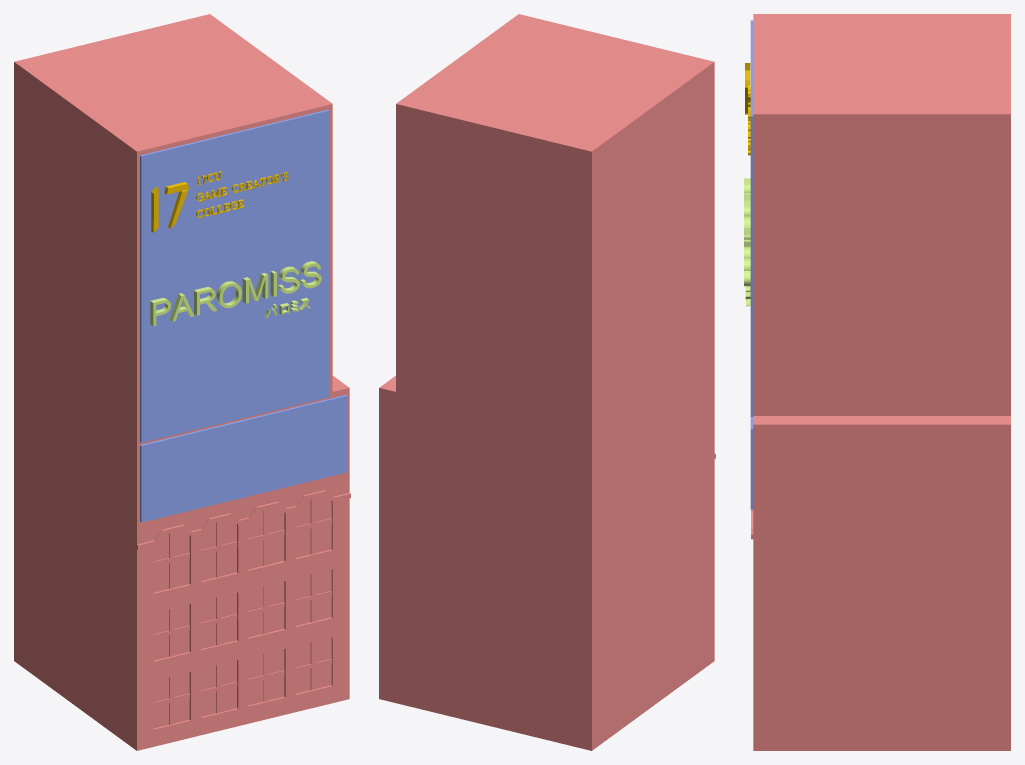
The model's file is PAROMISS.FBX.
3 views of the same model, side by side, from view 1: azimuth 30°, elevation 25°; view 2: azimuth 150°, elevation 25°; view 3: azimuth 270°, elevation 25° (orthographic). The views are drawn at different scales.
Parts seen in each view (by area): view 1: PuromisuBuilding, SignBoard, PAROMISS, 17_Text, 17_Logo; view 2: PuromisuBuilding; view 3: PuromisuBuilding, SignBoard, PAROMISS.
Boxes of the visible parts, <box> form: PuromisuBuilding: <box>14,14,350,750</box>; SignBoard: <box>140,109,347,522</box>; PAROMISS: <box>150,261,321,326</box>; 17_Text: <box>196,171,288,218</box>; 17_Logo: <box>151,182,189,232</box>; PuromisuBuilding: <box>379,14,715,750</box>; PuromisuBuilding: <box>751,14,1010,750</box>; SignBoard: <box>750,20,753,509</box>; PAROMISS: <box>744,178,750,286</box>.
Bounding box in the file's own units: 17.16 × 46.21 × 17.78.
